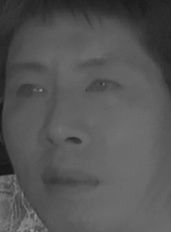eye: (13, 81, 51, 105), (84, 76, 127, 97)
mouth: (38, 162, 105, 199)
